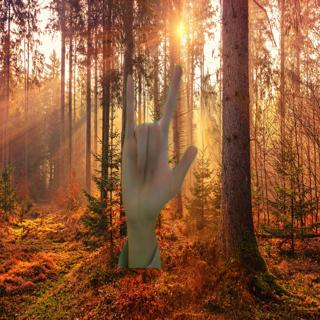ILY: (116, 61, 202, 229)
